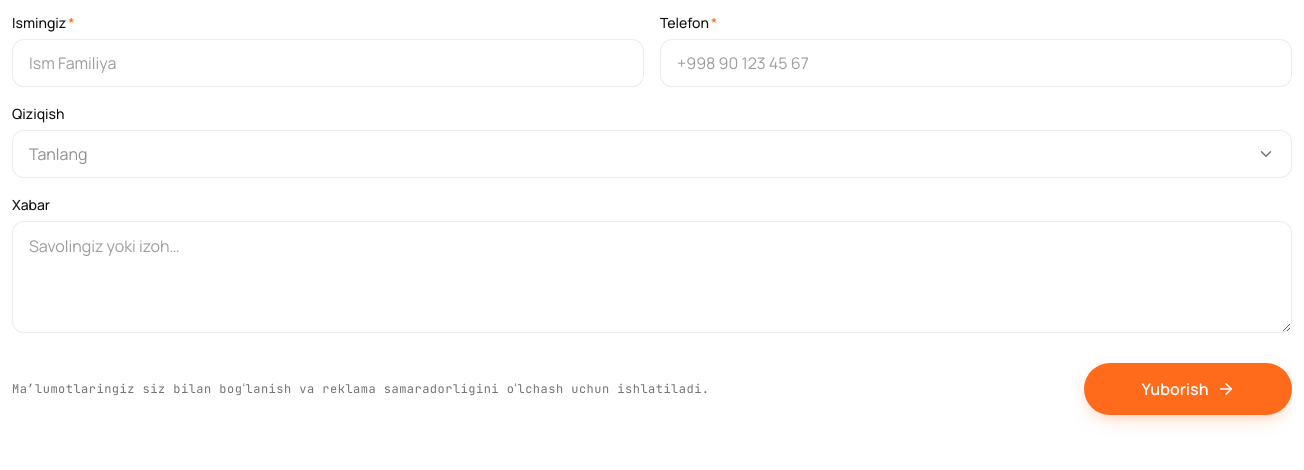
Test case: <LeadForm /> › rejects a non-numeric phone client-side
Type "Ali Valiyev" into the field labelled "Ismingiz*" at (328,63), box [12,39,644,87]
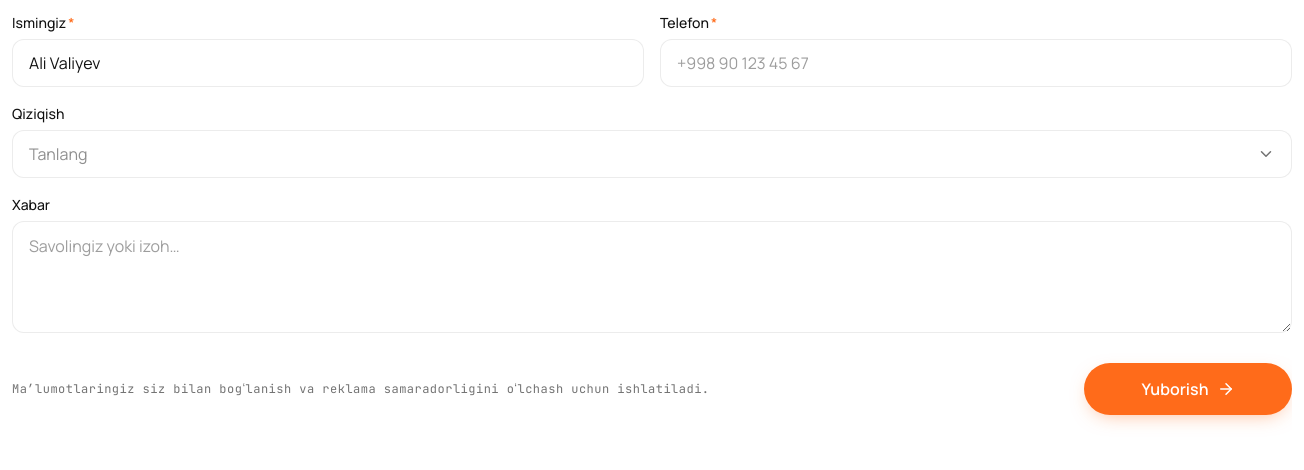
Type "abcdefgh" into the field labelled "Telefon*" at (976,63), box [660,39,1292,87]
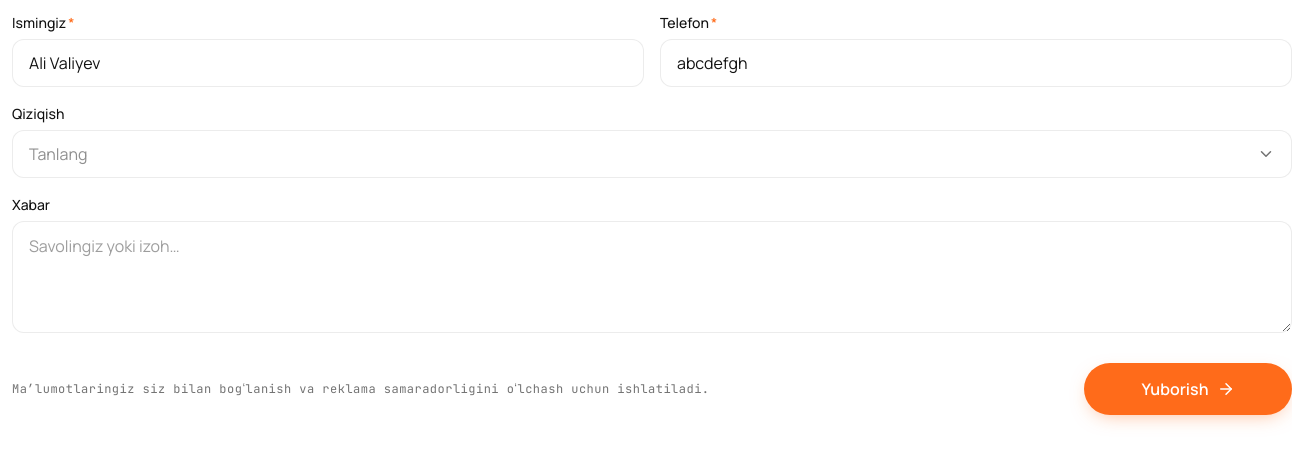
Click the button "Yuborish" at (1188,389), box [1084,363,1292,415]
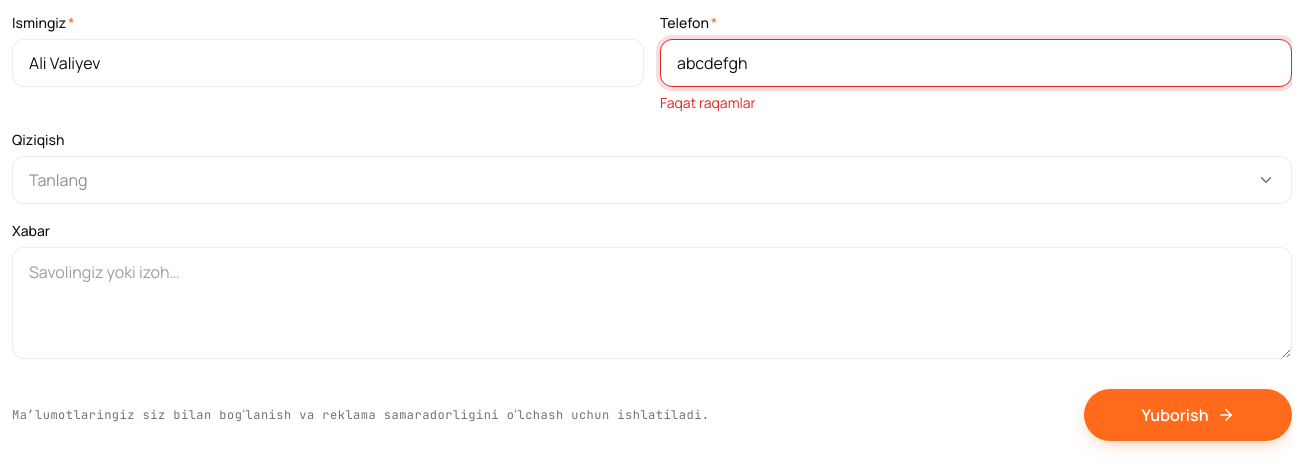
Check: the text "Faqat raqamlar" is shown, box [660,93,756,112]
